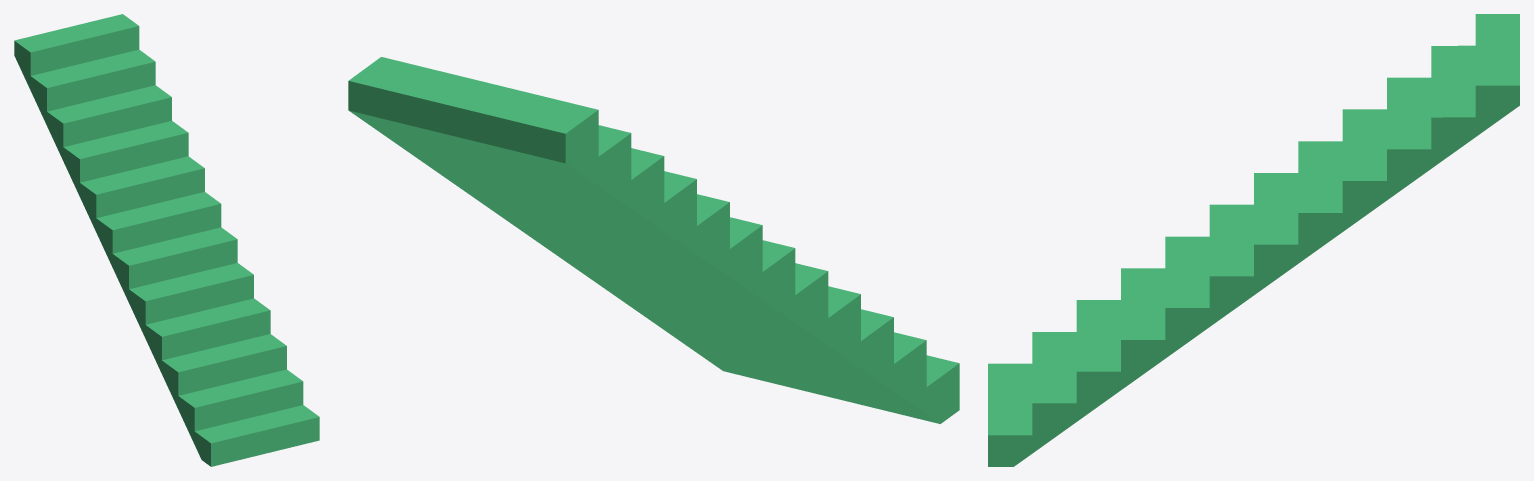
The model's file is Stairs_064.glb.
3 views of the same model, side by side, from view 1: azimuth 30°, elevation 25°; view 2: azimuth 150°, elevation 25°; view 3: azimuth 270°, elevation 25° (orthographic). The views are drawn at different scales.
Parts seen in each view (by area): view 1: Stairs_064; view 2: Stairs_064; view 3: Stairs_064.
Boxes of the visible parts, x1,y1,x2,y2 form: Stairs_064: [14, 14, 319, 466]; Stairs_064: [348, 57, 959, 423]; Stairs_064: [988, 14, 1519, 466].
Size of the model in its own units: 1.62 by 4.02 by 5.08.
Materials: 1 (1 with a texture image).
